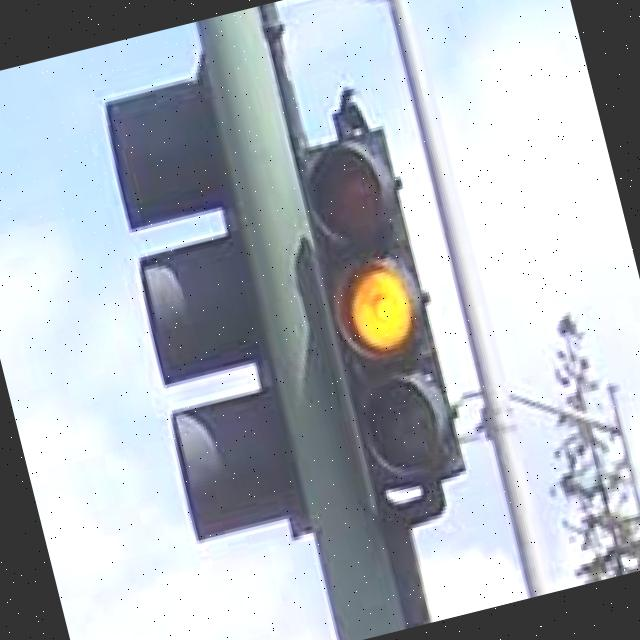yellow_light: (299, 132, 465, 492)
